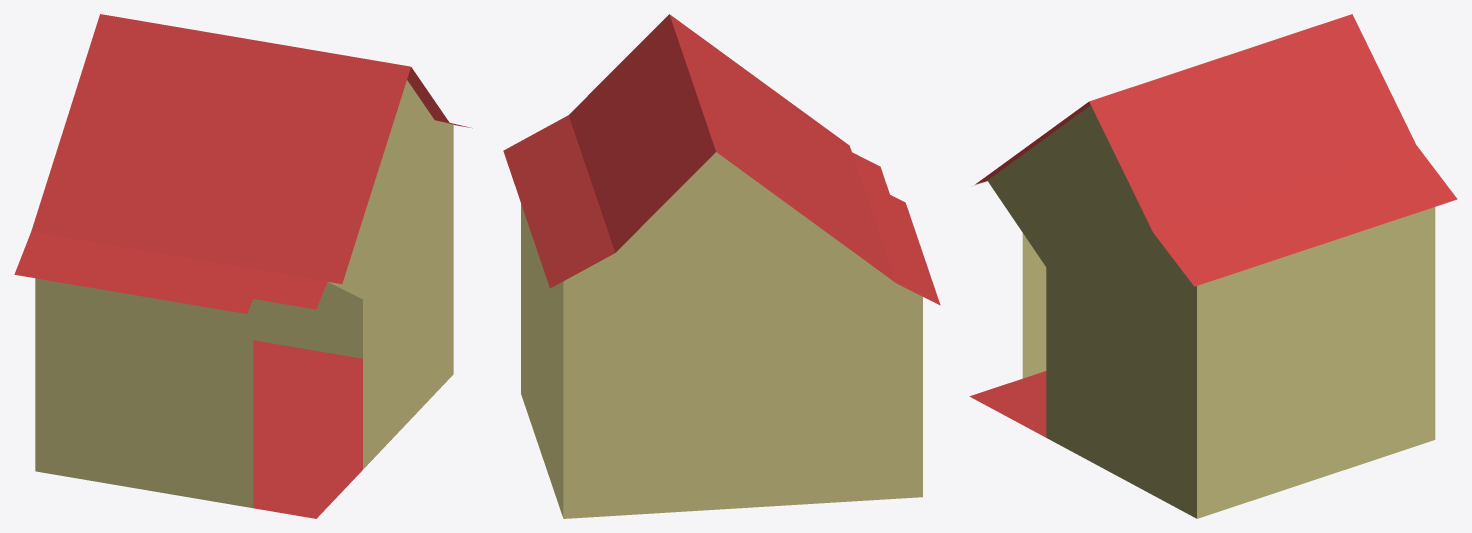
The picture shows the model from 3 angles, left to right: view 1: azimuth 30°, elevation 25°; view 2: azimuth 150°, elevation 25°; view 3: azimuth 270°, elevation 25°; orthographic projection.
Bounding box in the file's own units: 16.27 × 15.22 × 12.73.
